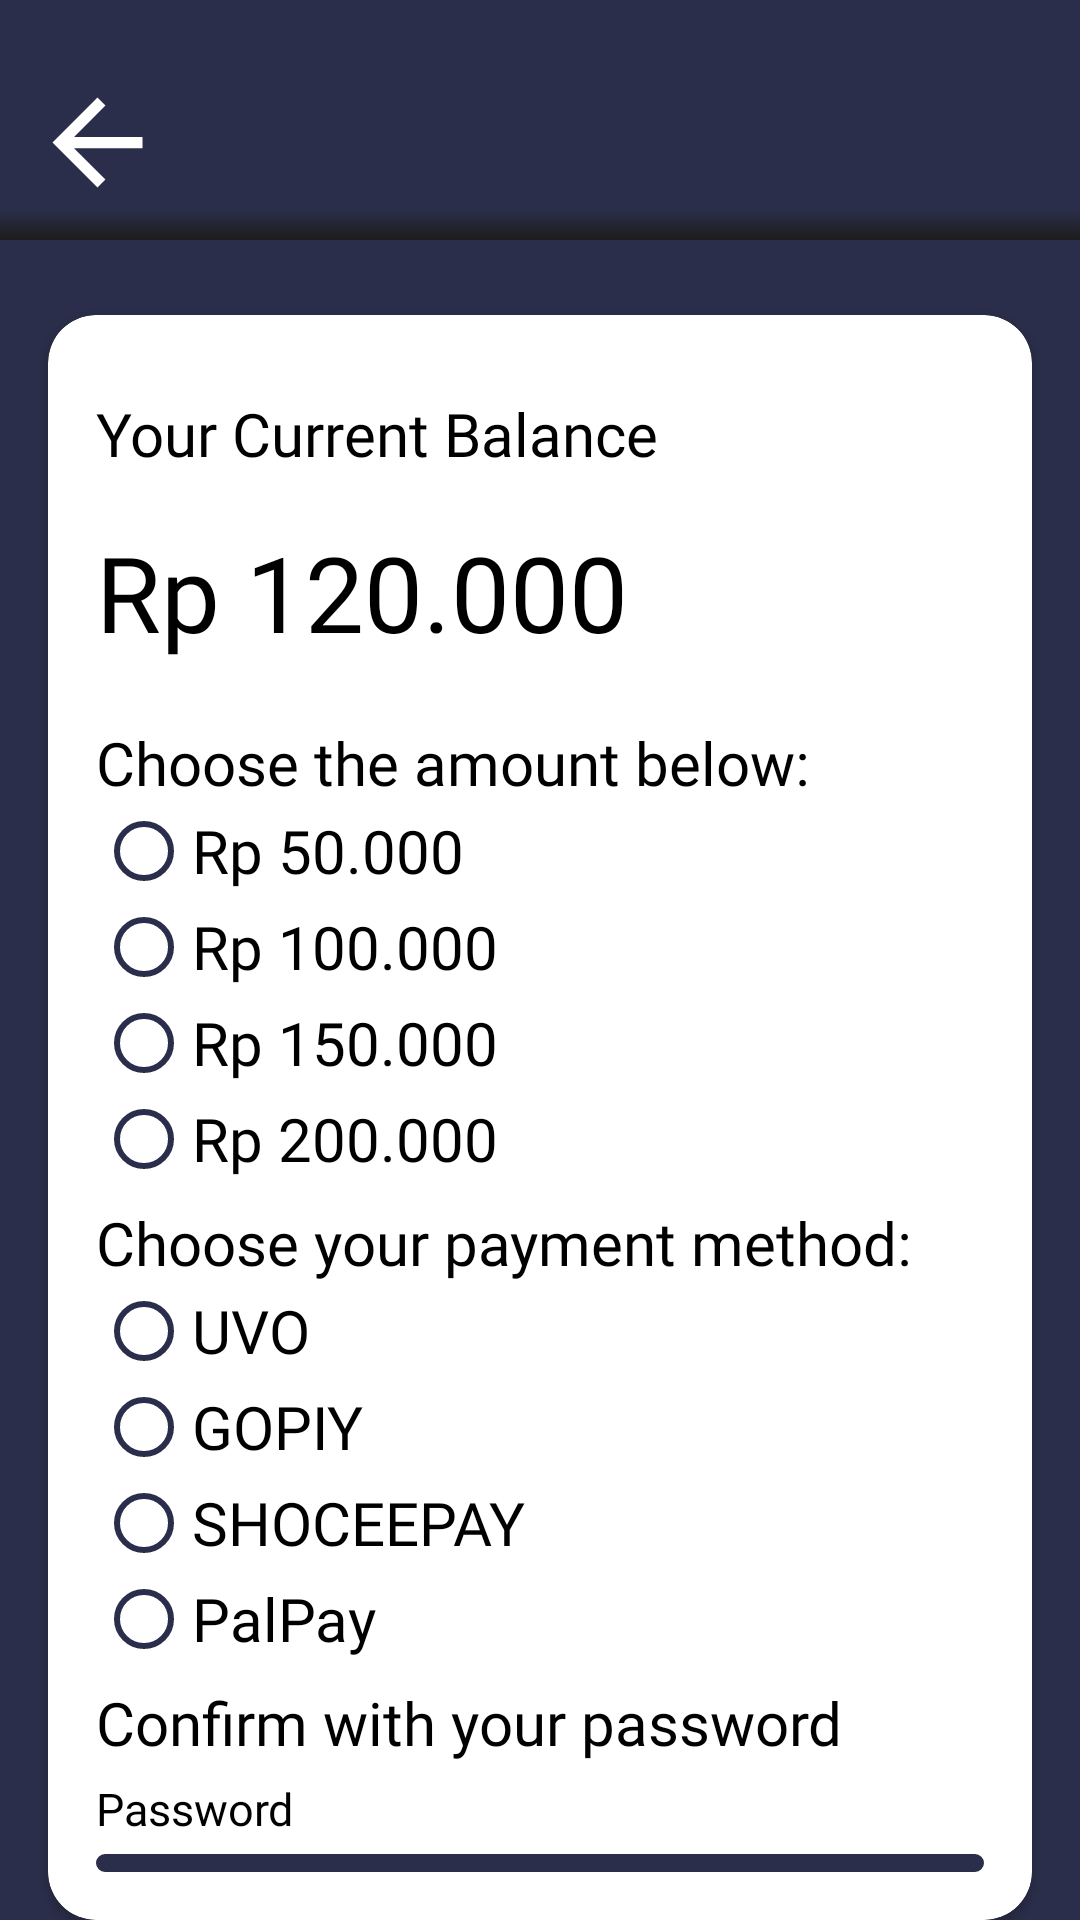

Point at icon controls on the screen. Image size 1080×1920, points as [x,y].
back: [97,142]
